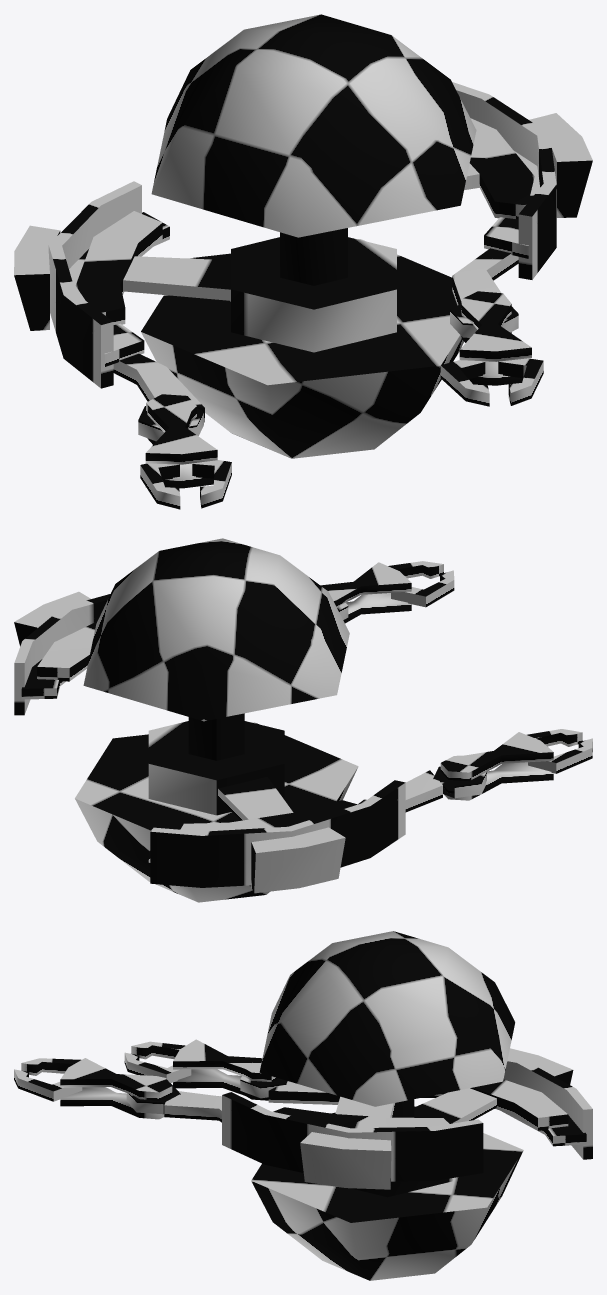
File: repair_robot.obj
The picture shows the model from 3 angles, top to bottom: view 1: azimuth 30°, elevation 25°; view 2: azimuth 150°, elevation 25°; view 3: azimuth 270°, elevation 25°; orthographic projection. The views are drawn at different scales.
Parts seen in each view (by area): view 1: lowpoly; view 2: lowpoly; view 3: lowpoly.
Boxes of the visible parts, x1=… form: lowpoly: x1=14, y1=14, x2=592, y2=509; lowpoly: x1=14, y1=538, x2=592, y2=902; lowpoly: x1=14, y1=931, x2=592, y2=1280.
Size of the model in its own units: 28.97 by 20.44 by 33.39.
1 material, 1 textured.
